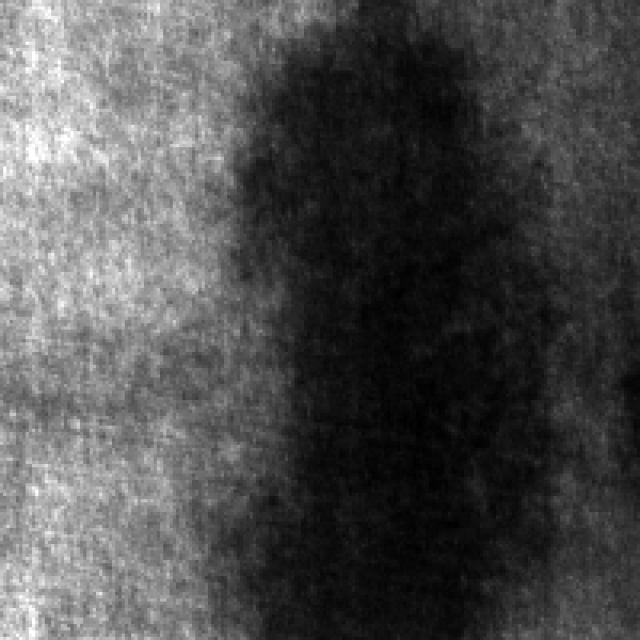patches: (251, 9, 500, 640)
